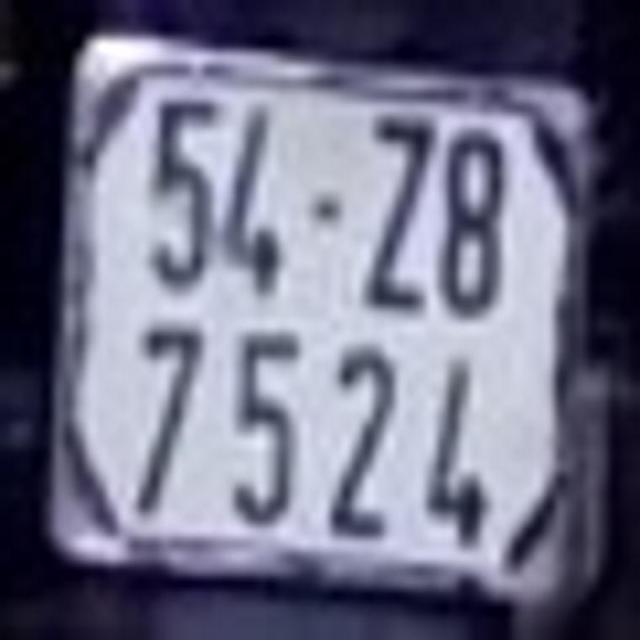2: (321, 324, 401, 550)
4: (413, 337, 502, 562), (225, 98, 299, 304)
5: (144, 90, 222, 309), (232, 316, 306, 532)
7: (124, 324, 209, 518)
8: (436, 118, 520, 324)
Z: (364, 113, 431, 322)
